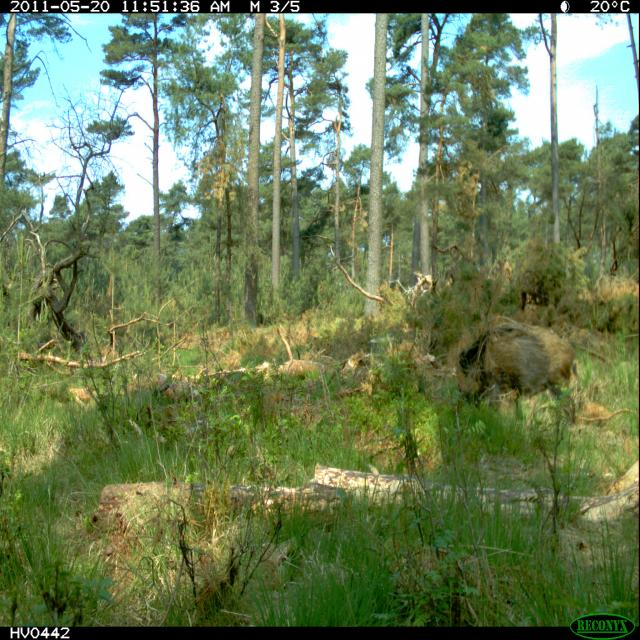boar: (436, 302, 598, 438)
